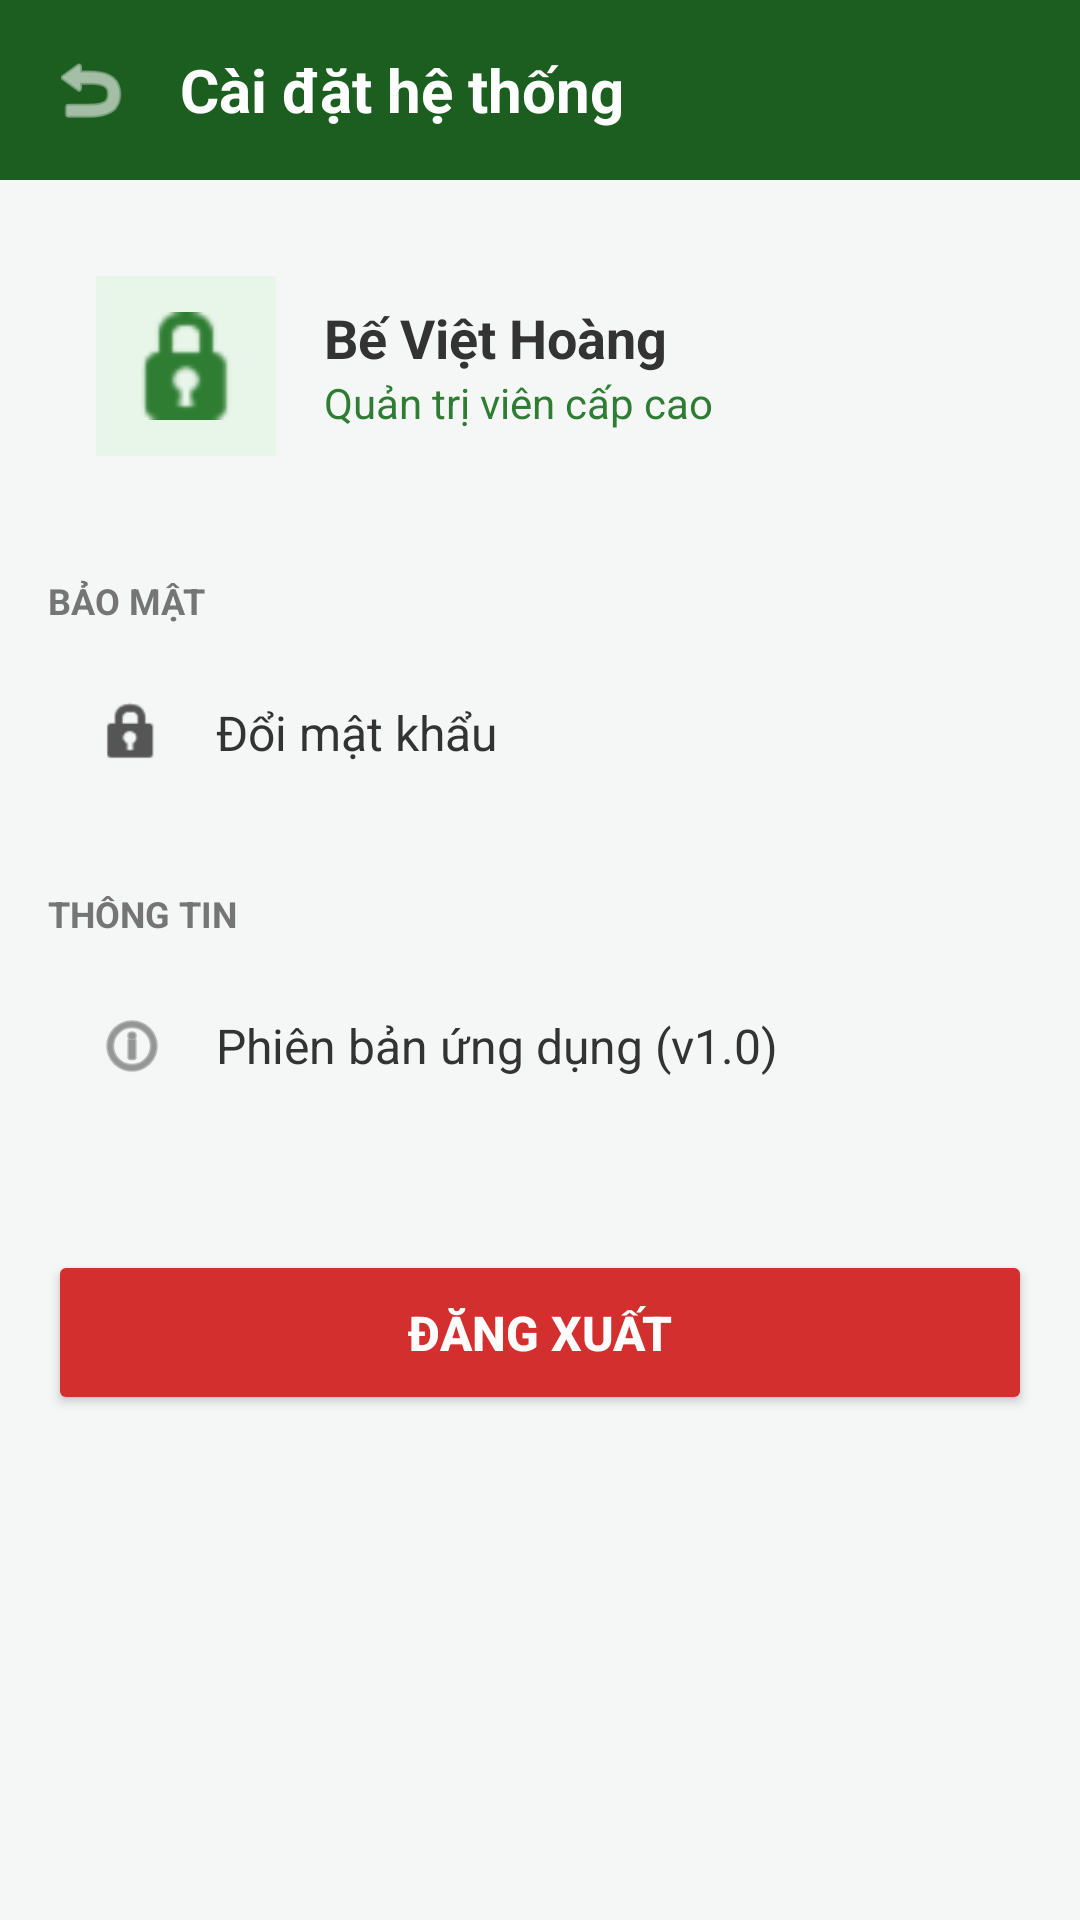

Screen size 1080w x 1920h. Icon name, then its center in pixels as [x,y]:
info details: [132,1046]
revert: [91,90]
